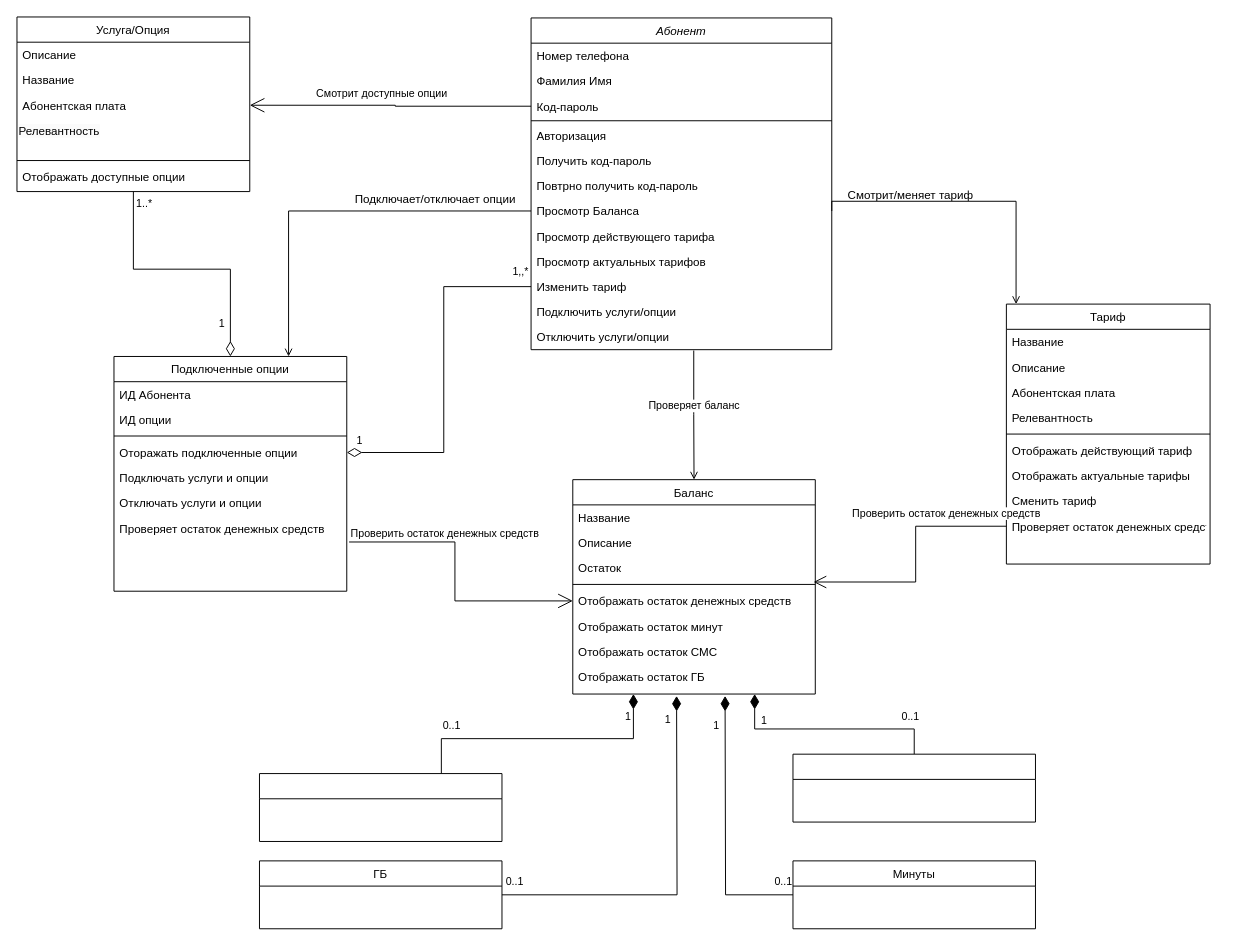
The diagram is 1233 pixels wide and 946 high, and some of its shapes have lost their labels. Here are the shapes that lost their labels. From the top down, the centre of each, then its label:
point 380,807: SMS
point 913,787: Денежные стредства
